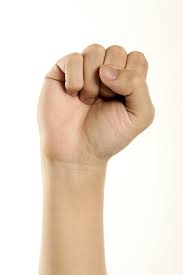fist: (35, 42, 157, 171)
